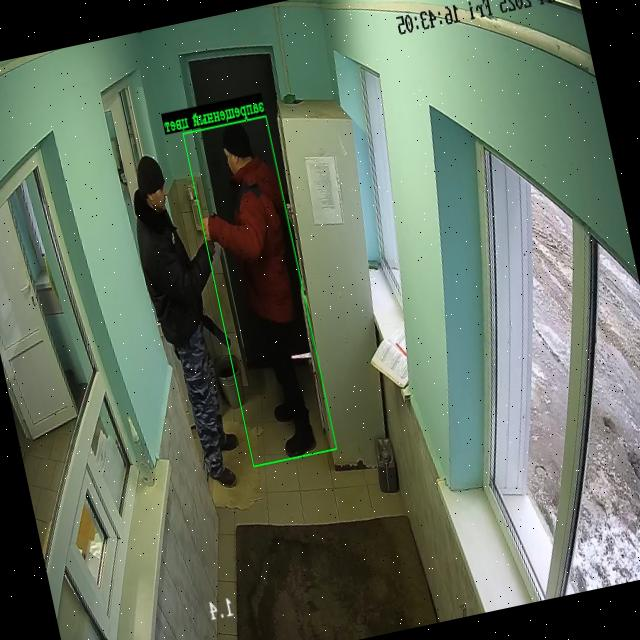Person: (133, 155, 238, 487)
Red uniform: (203, 124, 316, 456)
